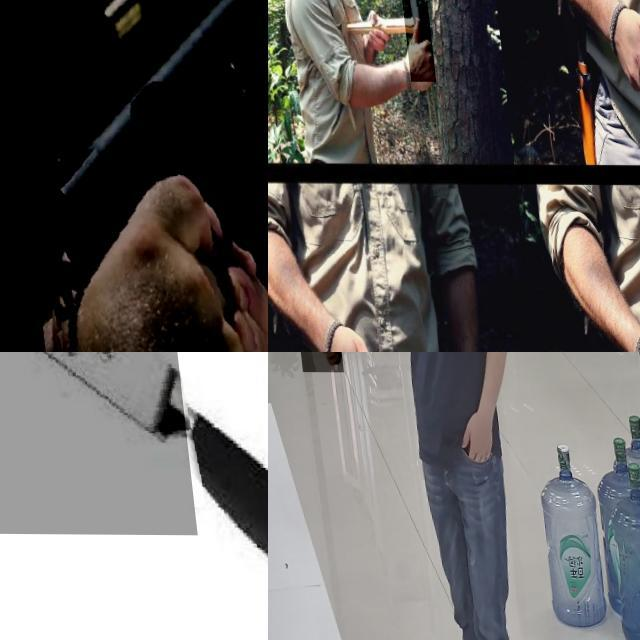-: (0, 352, 247, 617), (396, 0, 430, 81), (622, 43, 640, 130)
gun-knife-thesis - v11 Yolov5 augmented: (1, 0, 268, 352), (288, 352, 337, 393)
